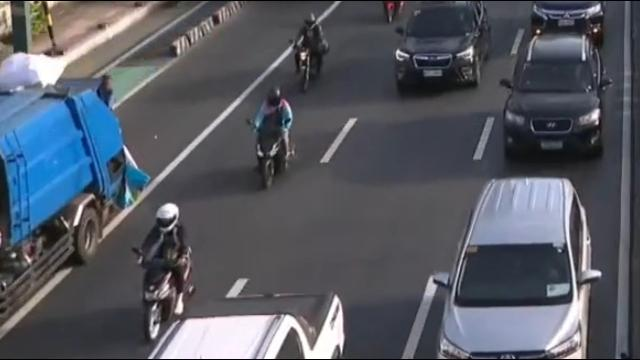car: (431, 175, 606, 360), (496, 31, 615, 168), (390, 0, 491, 97), (527, 0, 610, 50)
motorcycle: (125, 201, 205, 345), (243, 86, 294, 193), (291, 6, 331, 97)
pickup-truck: (140, 283, 354, 360)
truck: (0, 47, 148, 320)
